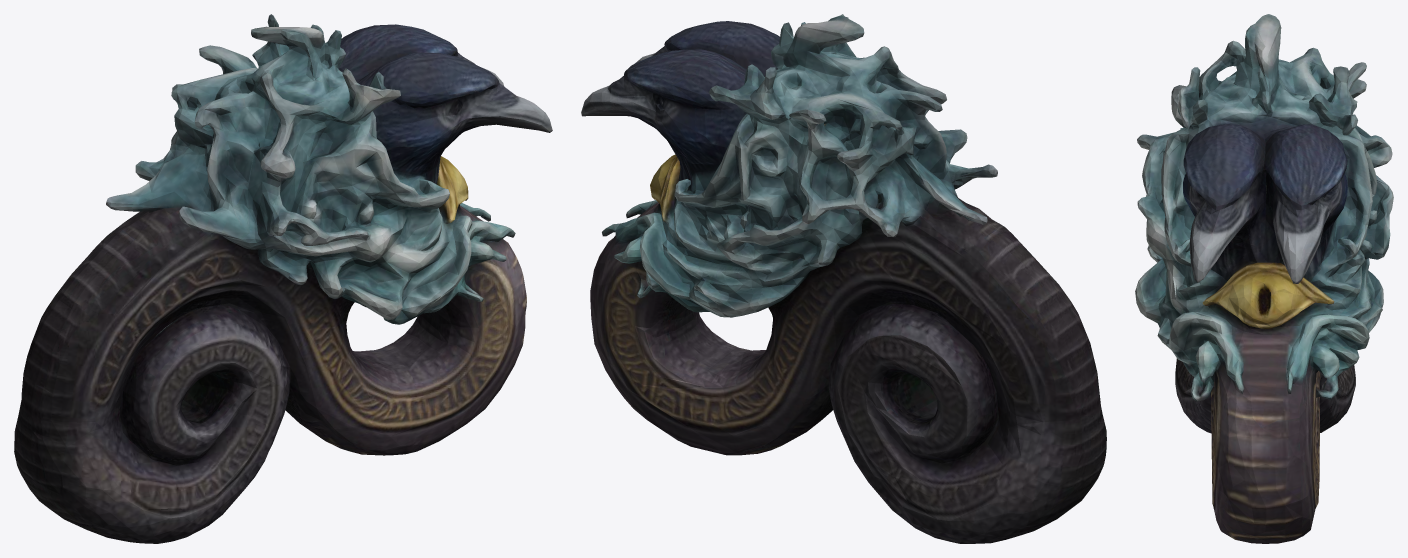
Rendered from duskcoil__odinsInformant.glb.
3 views of the same model, side by side, from view 1: azimuth 30°, elevation 25°; view 2: azimuth 150°, elevation 25°; view 3: azimuth 270°, elevation 25° (orthographic).
Parts seen in each view (by area): view 1: world; view 2: world; view 3: world.
Boxes of the visible parts, box(x1,y1,x2,y2) form: world: box(14, 14, 552, 543); world: box(581, 14, 1106, 543); world: box(1135, 14, 1393, 543).
Bounding box in the file's own units: 1 × 0.892 × 0.4506.
Materials: 1 (1 with a texture image).
